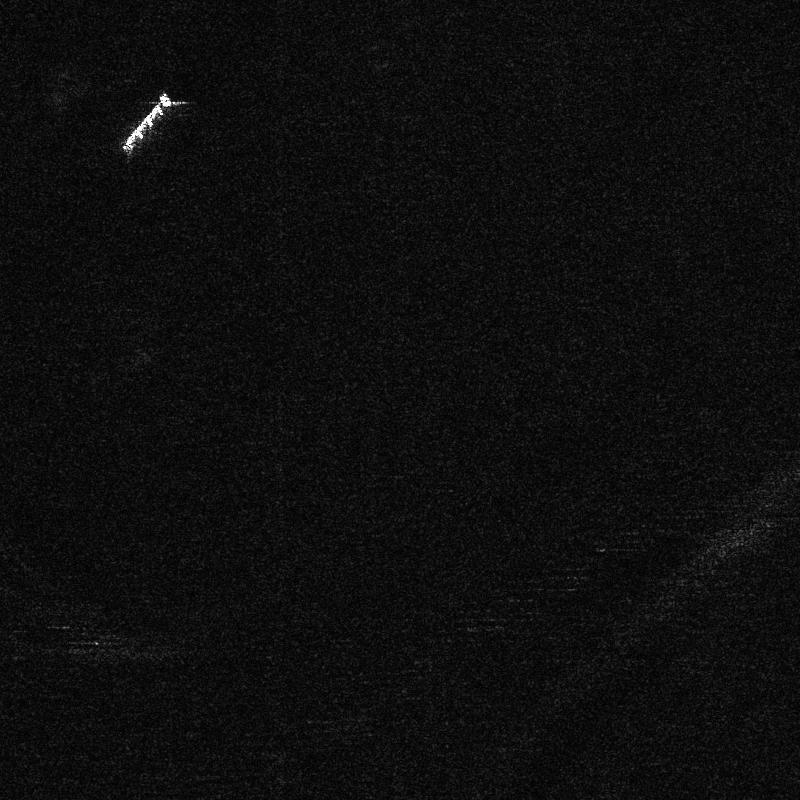ship: (121, 93, 180, 155)
